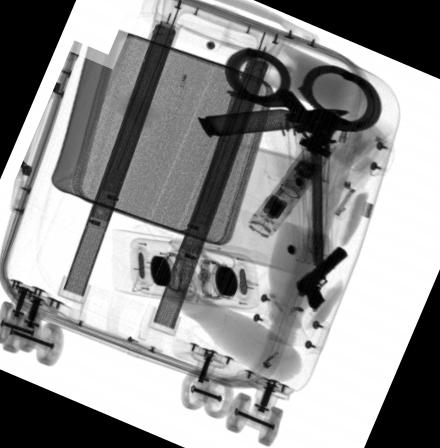Baton: (246, 137, 340, 238)
Bullet: (197, 107, 348, 139)
Gun: (294, 245, 350, 310)
HandCuffs: (224, 45, 384, 159)
